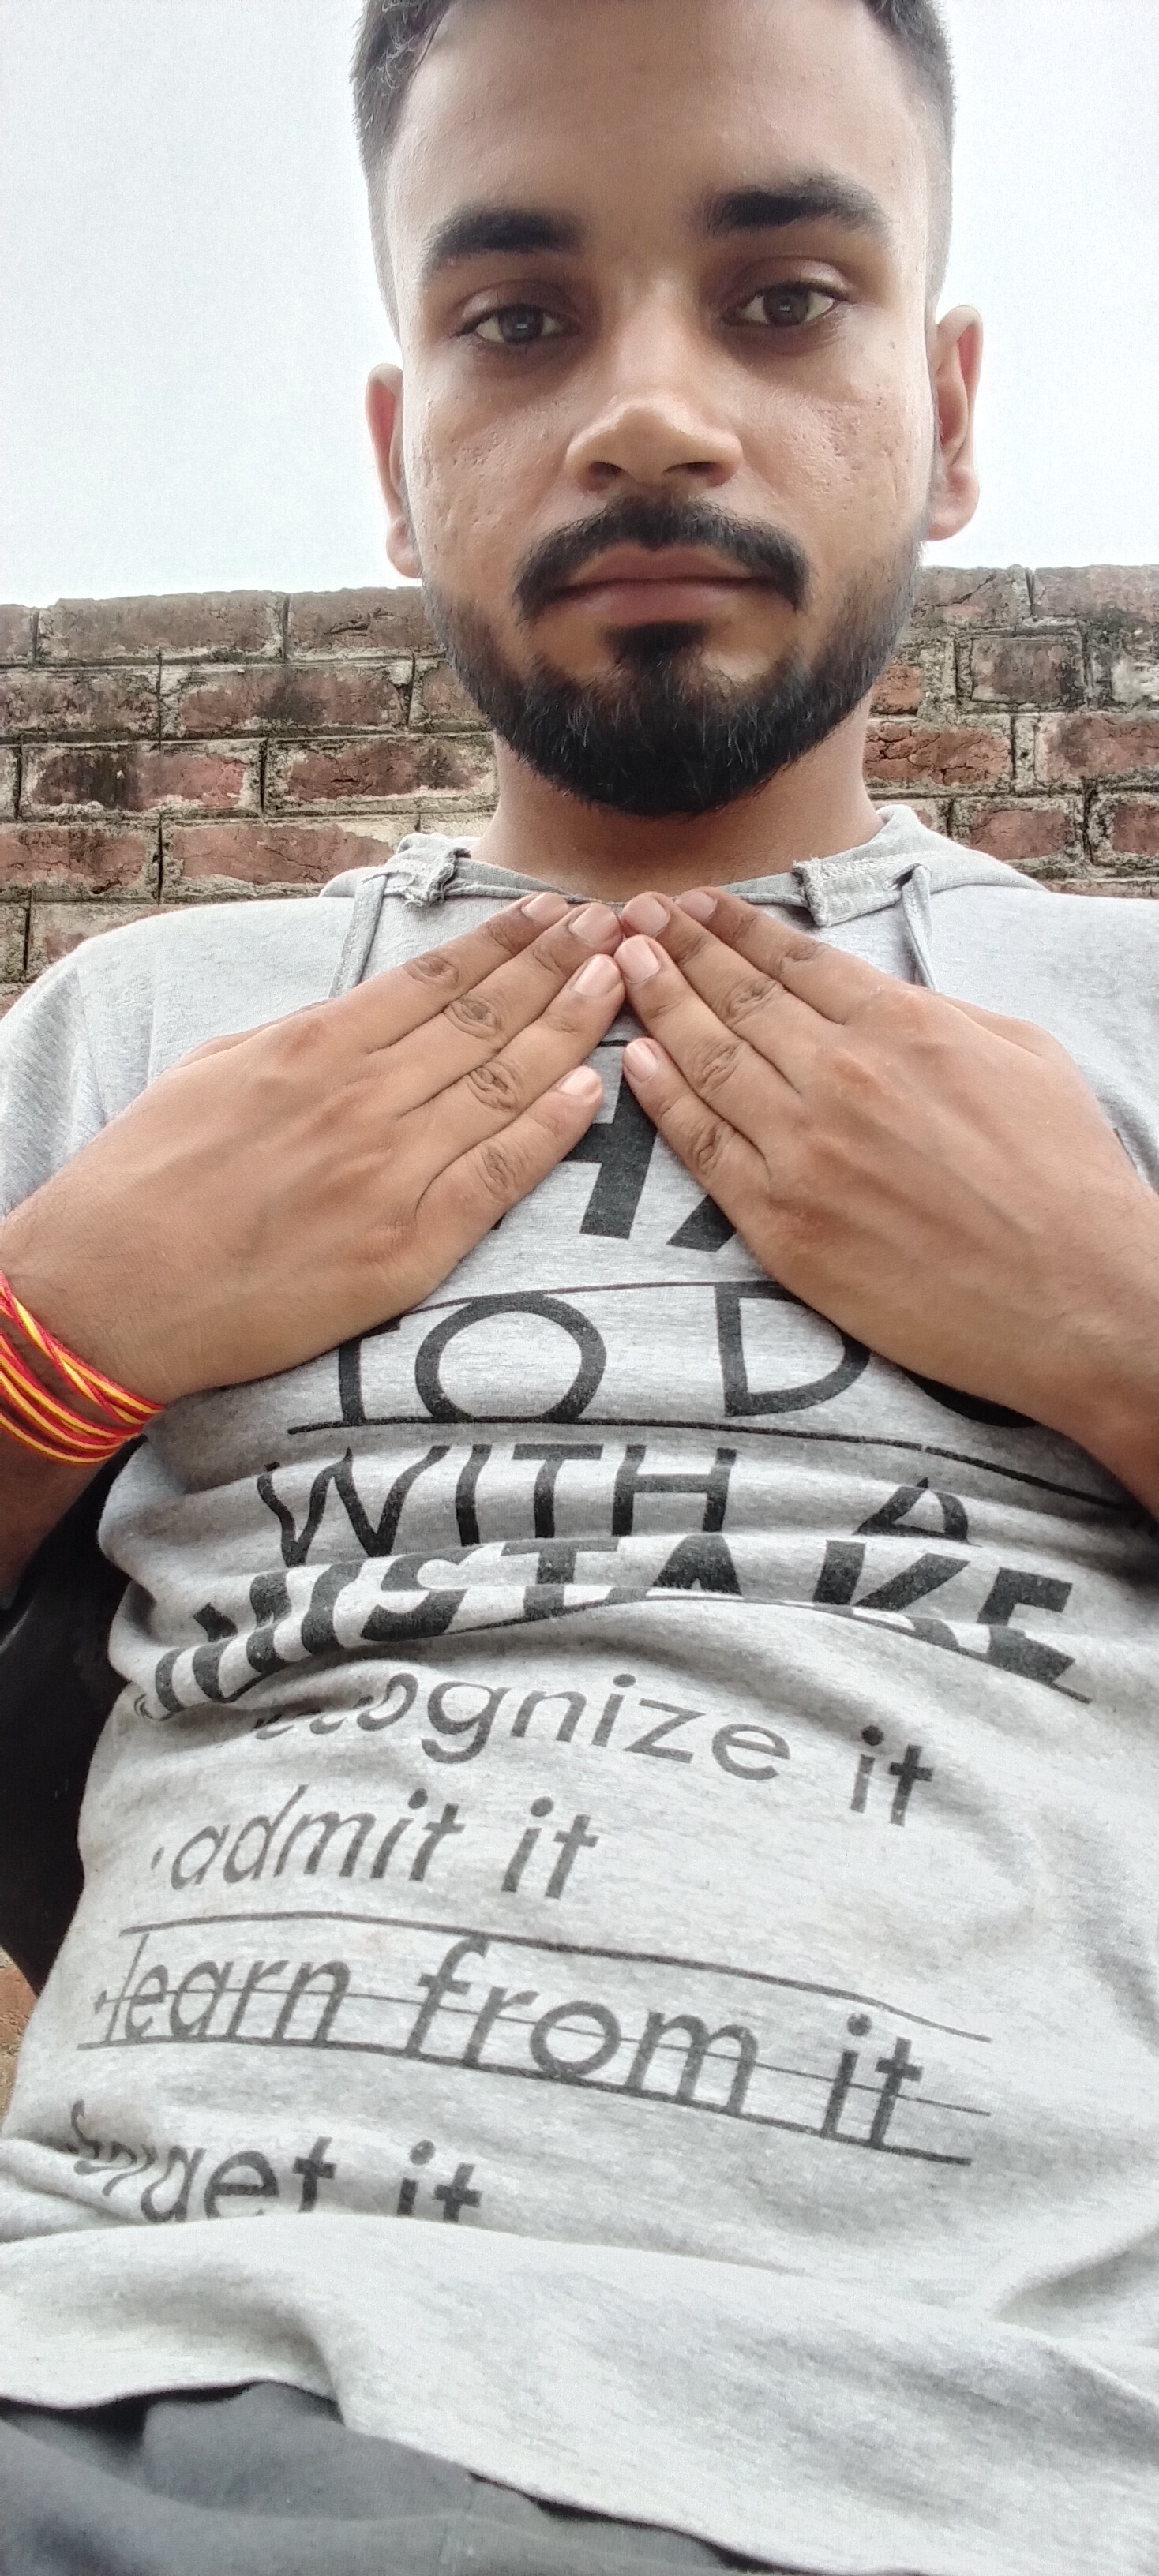Welcome: (79, 892, 1159, 1469)
